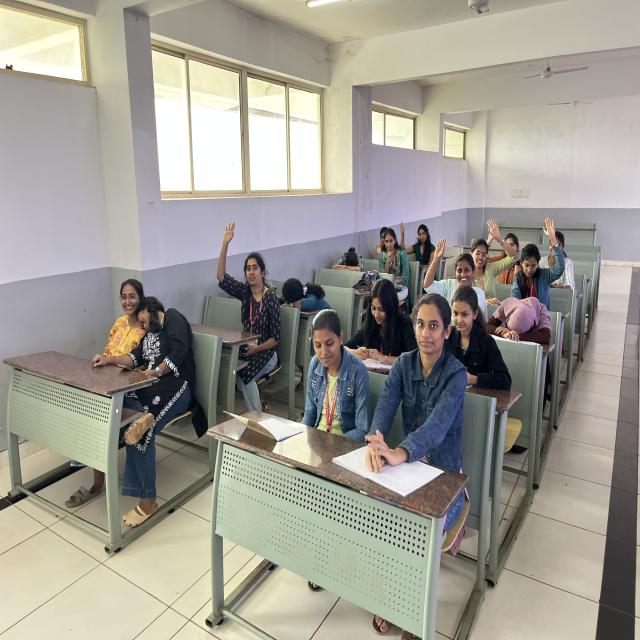Hand Rising: (212, 212, 282, 351), (512, 212, 562, 302), (420, 236, 484, 303), (464, 215, 507, 293), (396, 215, 442, 260)
Sleeping: (478, 288, 558, 350), (269, 267, 336, 325)
Writing: (335, 274, 421, 363), (328, 242, 369, 277)
